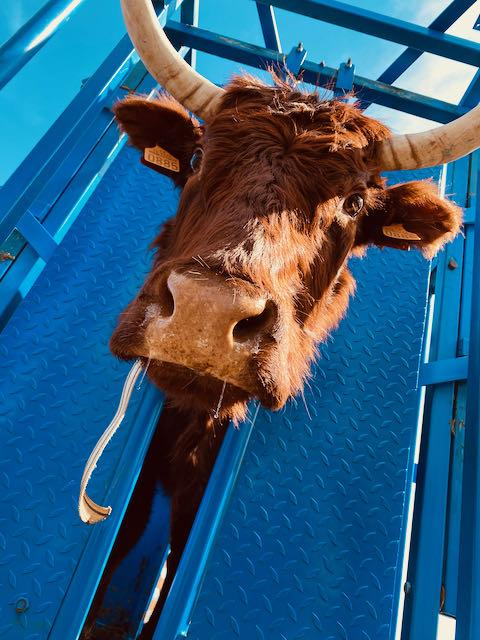muzzles: (104, 249, 304, 413)
